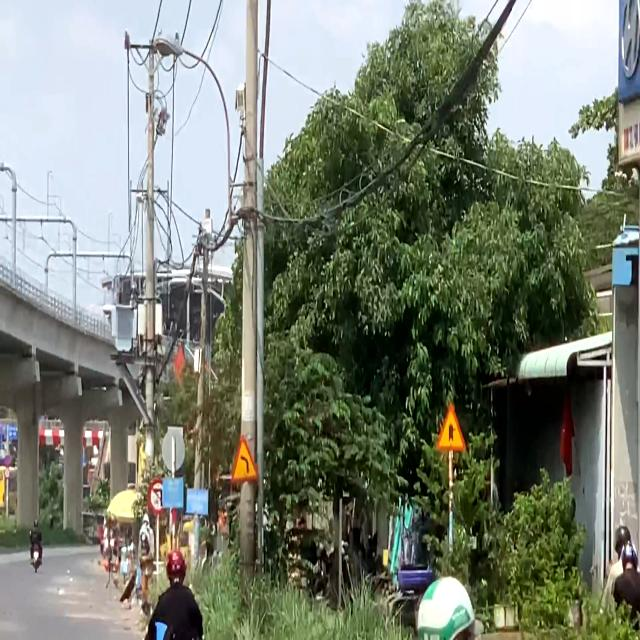W.201a: (230, 432, 260, 486)
W.207b: (435, 402, 467, 452)
